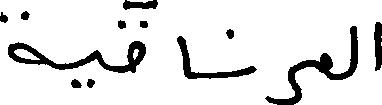X: (0, 6, 44, 69), (268, 57, 300, 104), (129, 0, 143, 77), (178, 31, 190, 83), (92, 45, 101, 91), (321, 48, 331, 84), (351, 21, 357, 80), (375, 17, 381, 75), (248, 61, 254, 79)
